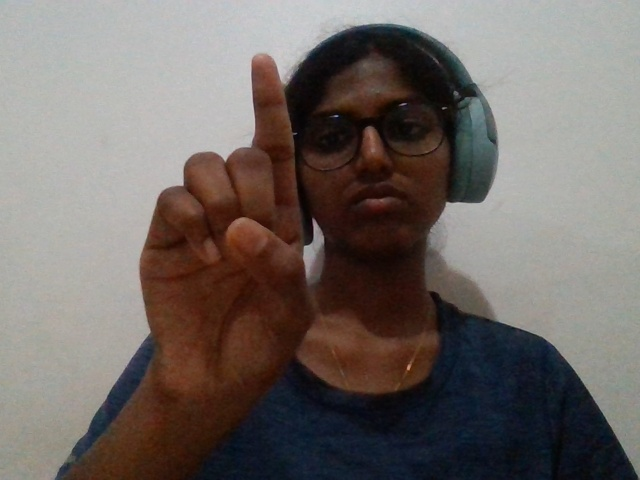D: (78, 47, 342, 433)
